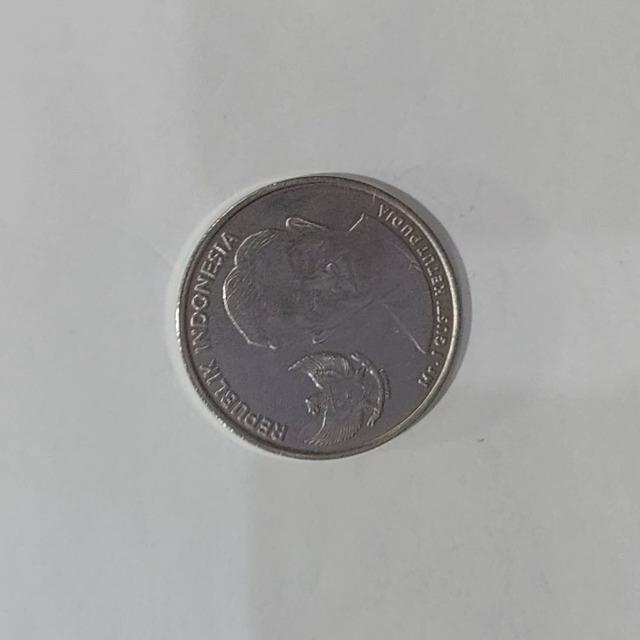Rp100: (175, 171, 464, 460)
